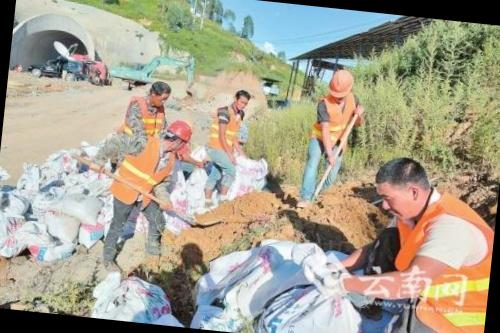no_helmet: (367, 150, 441, 226), (143, 77, 176, 112), (230, 84, 252, 114)
